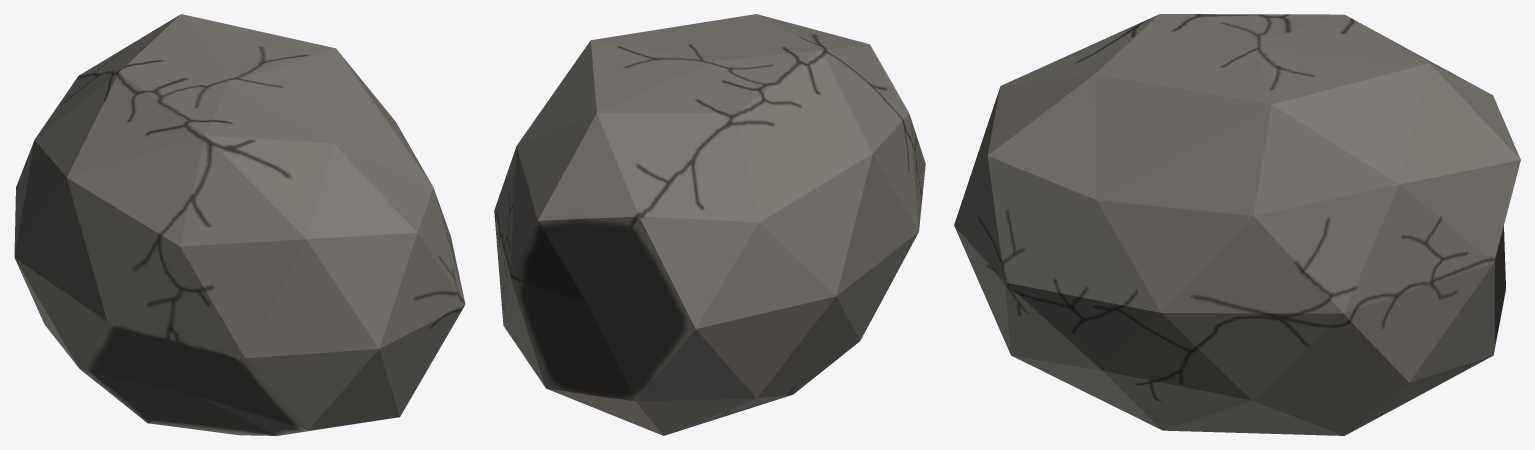
Rendered from asteroid.dae.
3 views of the same model, side by side, from view 1: azimuth 30°, elevation 25°; view 2: azimuth 150°, elevation 25°; view 3: azimuth 270°, elevation 25° (orthographic). The views are drawn at different scales.
Parts seen in each view (by area): view 1: Body; view 2: Body; view 3: Body.
Boxes of the visible parts, x1,y1,x2,y2 form: Body: [14, 14, 465, 435]; Body: [494, 14, 925, 435]; Body: [954, 14, 1520, 435].
Size of what is drawn, in the model's own units: 1.1 by 1.44 by 1.06.
1 material, 1 textured.
